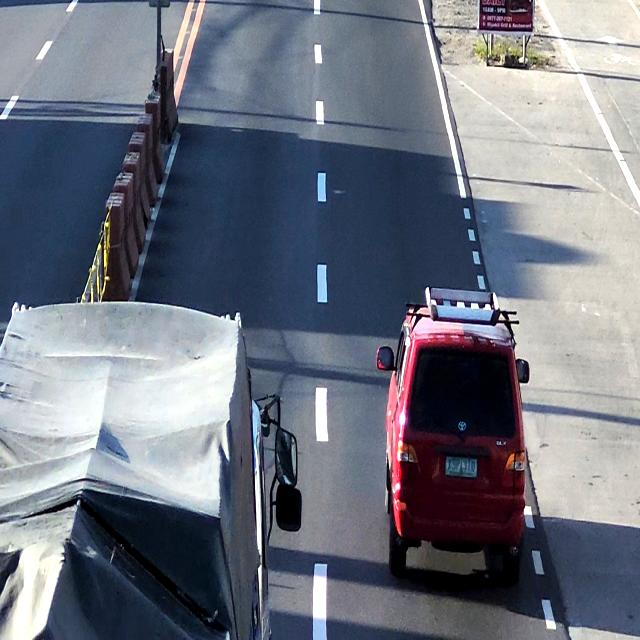Car: (388, 290, 526, 590)
License-Plate: (443, 453, 478, 479)
Truck: (0, 303, 285, 640)
